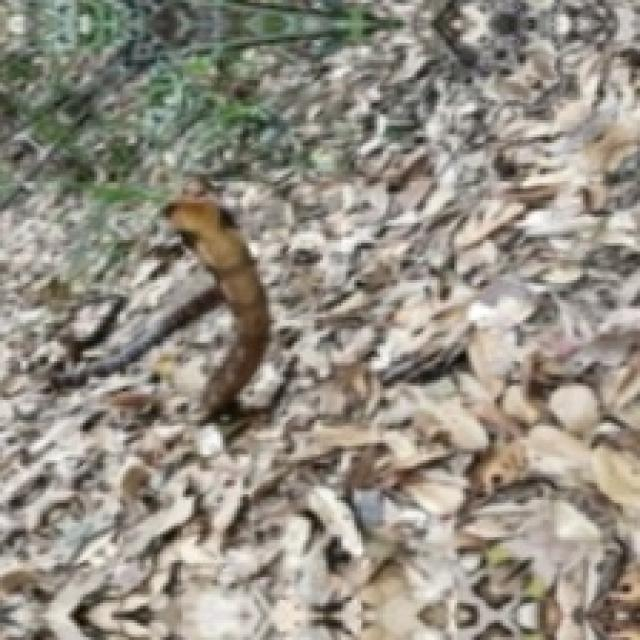king cobra: (163, 177, 269, 417)
